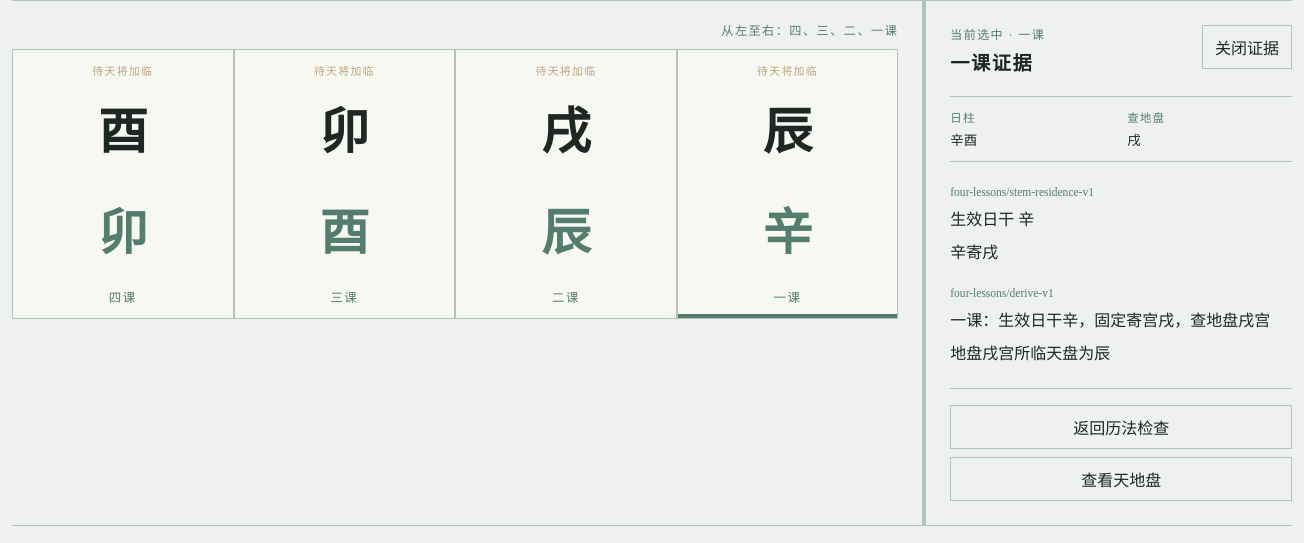
Test: FourLessonsReview › shows the approved lower-source relationship for every derived lesson
What coordinates should you click on to do the following:
click the button with aria-label "二课，上神戌，下神辰"
I would click on:
 (566, 184)
Its box is [455,49,677,319].
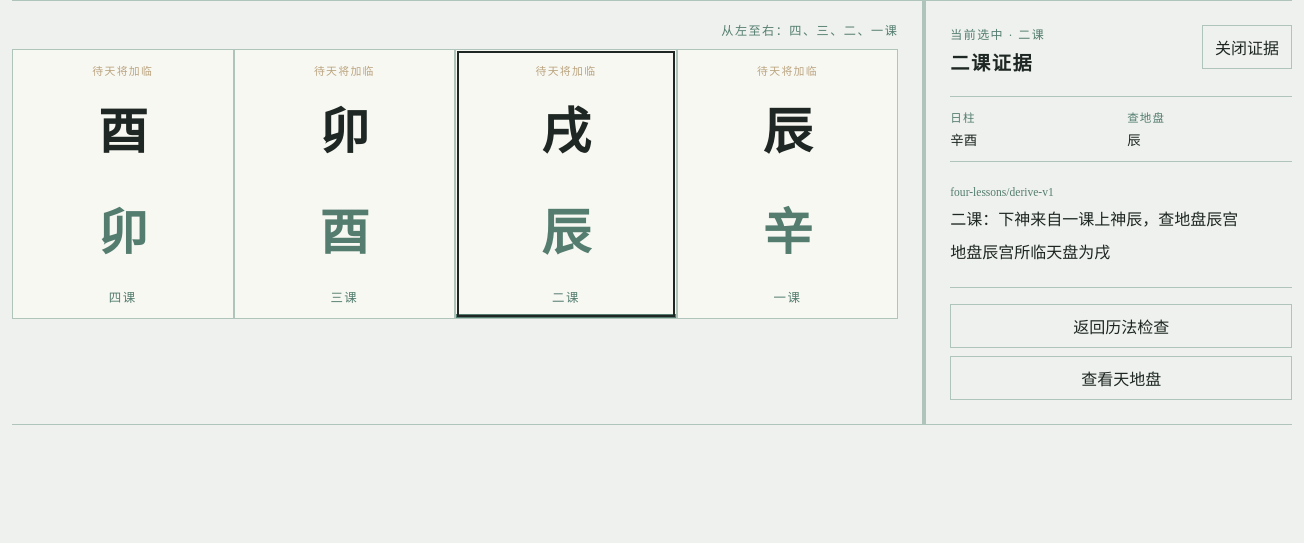
Now the text "二课：下神来自一课上神辰，查地盘辰宫" is shown, box [950,211,1238,228]
What coordinates should you click on to do the following:
click the button with aria-label "三课，上神卯，下神酉"
I would click on:
 (344, 184)
Its box is [234,49,455,319].
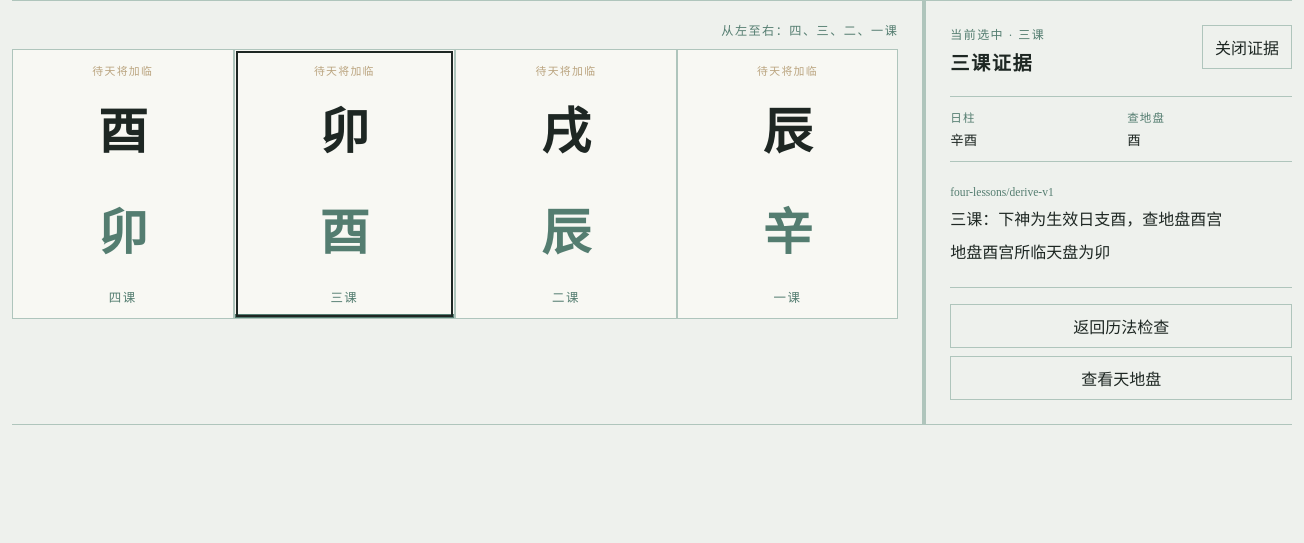
Now the text "三课：下神为生效日支酉，查地盘酉宫" is shown, box [950,211,1222,228]
What coordinates should you click on to do the following:
click the button with aria-label "四课，上神酉，下神卯"
I would click on:
 (123, 184)
Its box is [12,49,234,319].
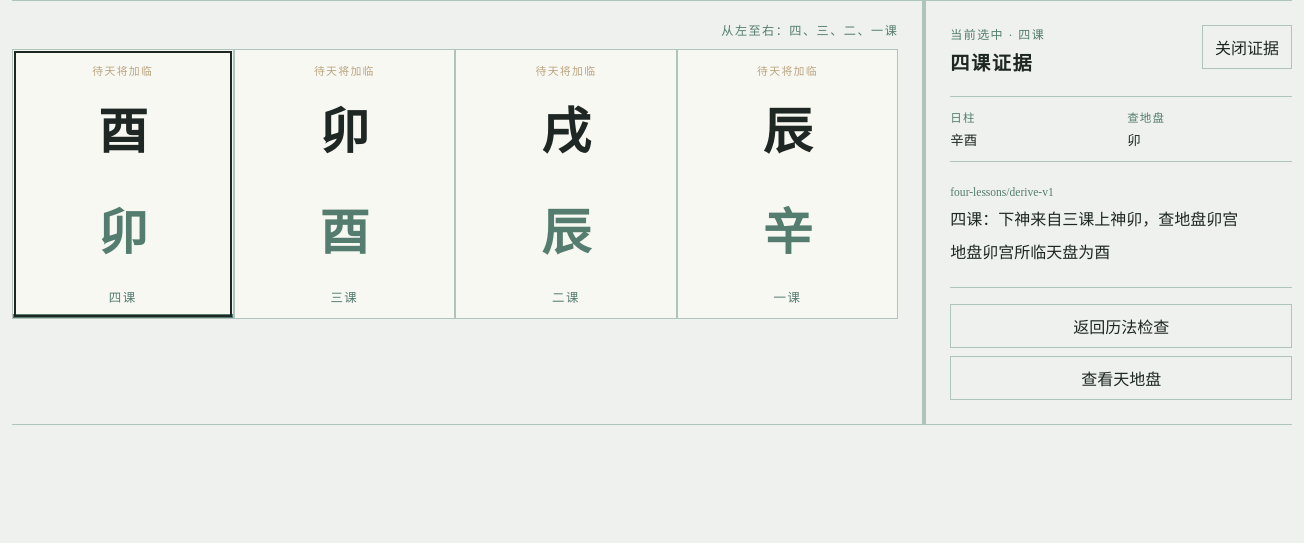
Now the text "四课：下神来自三课上神卯，查地盘卯宫" is shown, box [950,211,1238,228]
